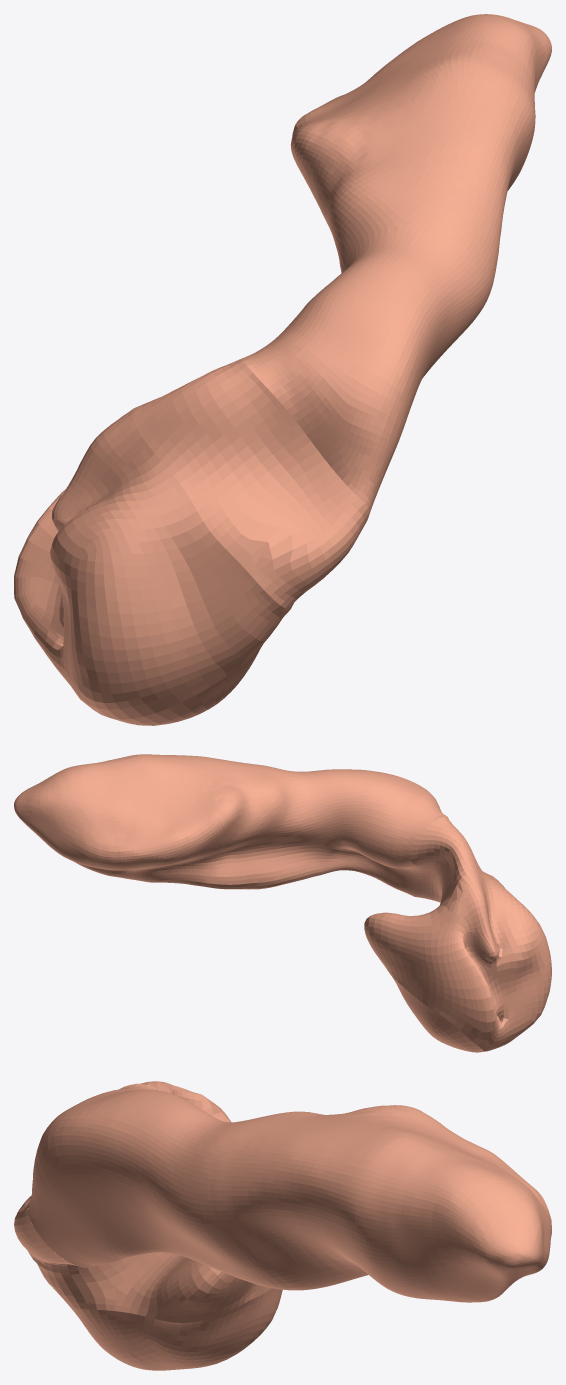
File: pancreas.glb
3 renders of one model, top to bottom at view 1: azimuth 30°, elevation 25°; view 2: azimuth 150°, elevation 25°; view 3: azimuth 270°, elevation 25°, orthographic. The views are drawn at different scales.
Visible parts, largest first — view 1: VH_M_head_of_pancreas, VH_M_body_of_pancreas, VH_M_tail_of_pancreas, VH_M_neck_of_pancreas, VH_M_uncinate_process_of_the_pancreas; view 2: VH_M_tail_of_pancreas, VH_M_head_of_pancreas, VH_M_body_of_pancreas, VH_M_neck_of_pancreas, VH_M_uncinate_process_of_the_pancreas; view 3: VH_M_tail_of_pancreas, VH_M_body_of_pancreas, VH_M_head_of_pancreas, VH_M_uncinate_process_of_the_pancreas, VH_M_neck_of_pancreas.
Boxes of the visible parts, x1,y1,x2,y2 form: VH_M_head_of_pancreas: (14, 388, 333, 719); VH_M_body_of_pancreas: (241, 177, 500, 515); VH_M_tail_of_pancreas: (290, 14, 551, 235); VH_M_neck_of_pancreas: (178, 359, 369, 569); VH_M_uncinate_process_of_the_pancreas: (110, 645, 262, 725); VH_M_tail_of_pancreas: (14, 754, 271, 889); VH_M_head_of_pancreas: (364, 843, 551, 1051); VH_M_body_of_pancreas: (242, 762, 446, 896); VH_M_neck_of_pancreas: (410, 816, 467, 902); VH_M_uncinate_process_of_the_pancreas: (391, 975, 484, 1052); VH_M_tail_of_pancreas: (232, 1105, 551, 1302); VH_M_body_of_pancreas: (28, 1083, 299, 1289); VH_M_head_of_pancreas: (14, 1086, 271, 1322); VH_M_uncinate_process_of_the_pancreas: (70, 1288, 282, 1370); VH_M_neck_of_pancreas: (14, 1081, 180, 1265).
Size of the model in its own units: 1.42 by 0.9184 by 1.07.
